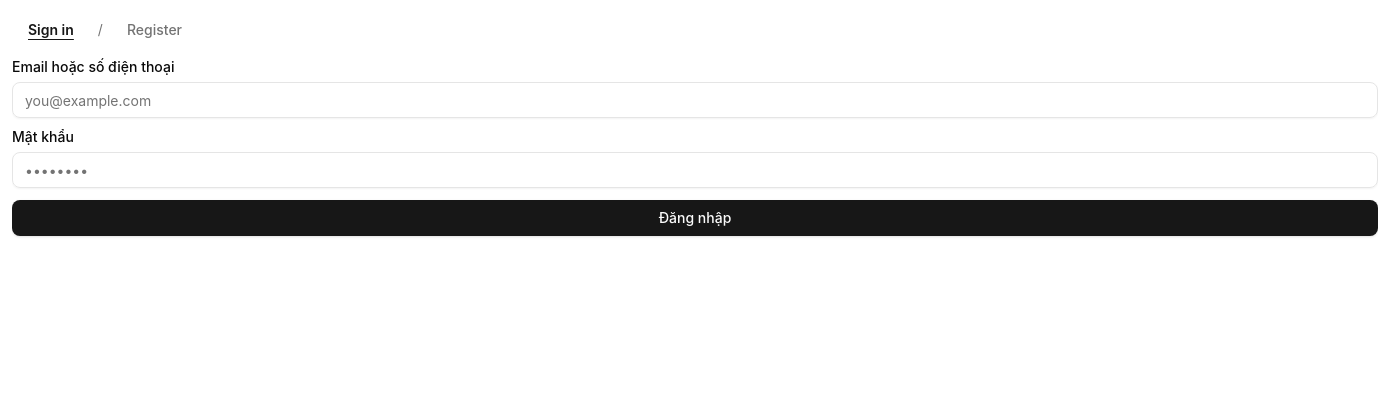
AuthDemo › switches to register mode
The image size is (1390, 394).
What coordinates should you click on to do the following:
click the button "Register"
I would click on:
 (154, 30)
Its box is [111,12,198,48].
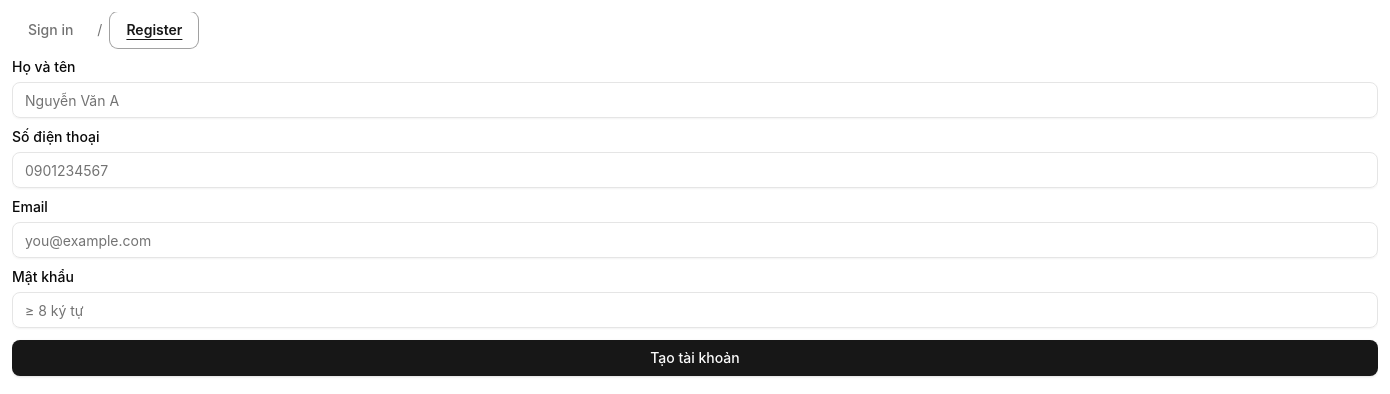
Expected: the button "Tạo tài khoản" is shown, [12,340,1378,376]
